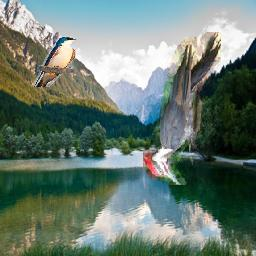Swallow: (34, 37, 77, 88)
Woodpecker: (143, 33, 221, 186)
